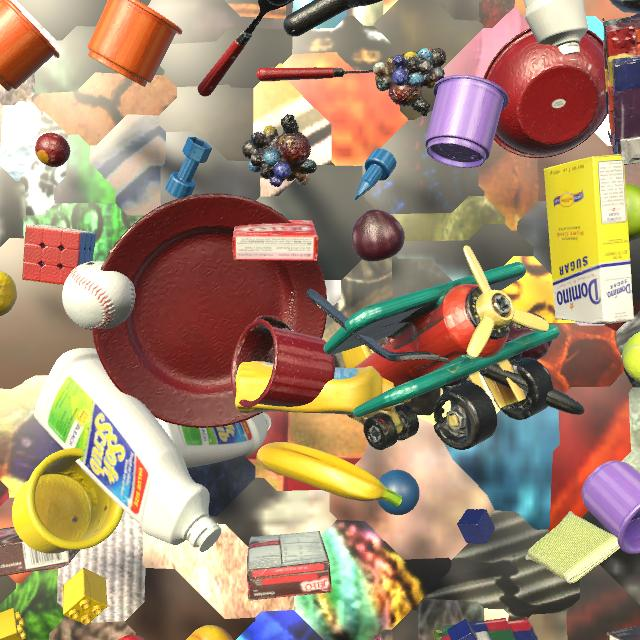ycb_004_sugar_box: (544, 154, 634, 324)
ycb_006_mustard_bottle: (235, 361, 411, 418)
ycb_008_pudding_box: (247, 531, 332, 601), (0, 517, 80, 577), (607, 625, 640, 640)
ycb_009_gelatin_box: (232, 220, 319, 261)
ycb_011_banana: (256, 442, 403, 507)
ycb_014_lemon: (0, 271, 17, 316)
ycb_015_peach: (186, 625, 233, 640)
ycb_016_pear: (626, 183, 640, 242)
ycb_018_plum: (351, 209, 405, 262), (506, 312, 552, 360)
